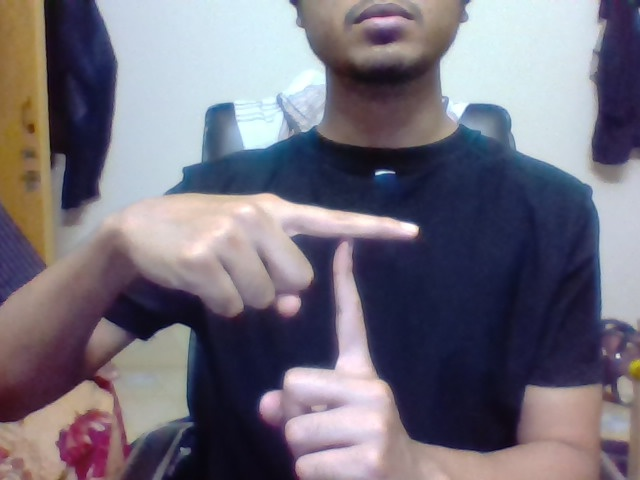T: (316, 191, 425, 340)
